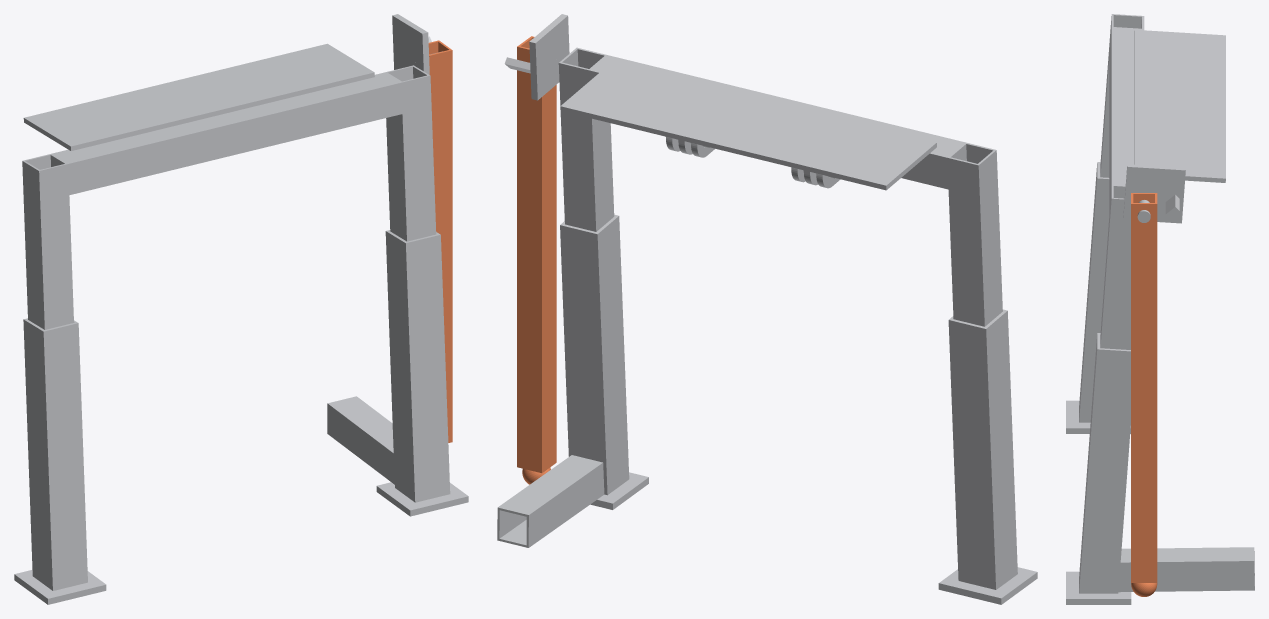
Rendered from center_stand_v4_stowed.glb.
3 renders of one model, left to right at view 1: azimuth 30°, elevation 25°; view 2: azimuth 150°, elevation 25°; view 3: azimuth 270°, elevation 25°, orthographic. The views are drawn at different scales.
Visible parts, largest first — view 1: frame, handle; view 2: frame, handle; view 3: frame, handle.
Boxes of the visible parts, box(x1,y1,x2,y2) form: frame: box(14, 14, 468, 604); handle: box(428, 40, 452, 442); frame: box(497, 14, 1037, 604); handle: box(517, 36, 556, 484); frame: box(1066, 14, 1254, 604); handle: box(1131, 193, 1157, 596).
Size of the model in its own units: 0.4794 by 0.4662 by 0.1838.
